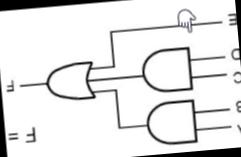and: (141, 95, 201, 150), (138, 41, 196, 96)
or: (40, 54, 98, 106)
